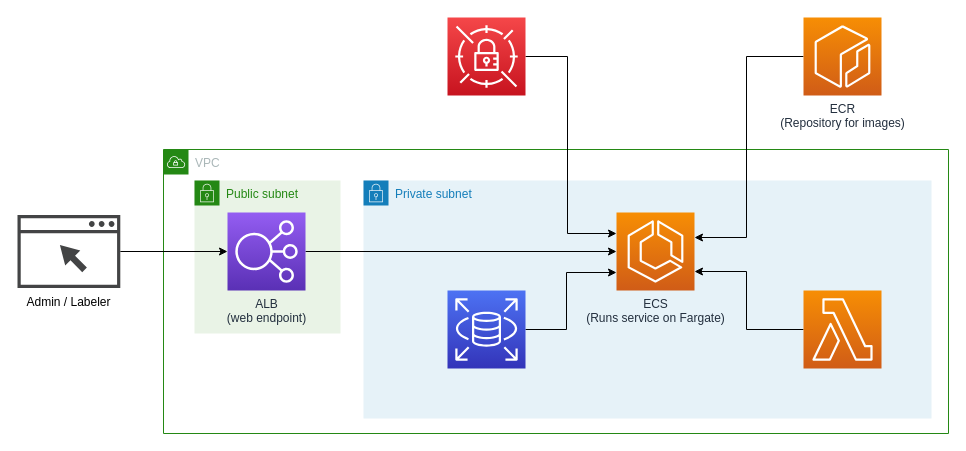
Some shapes in this 966 by 451 pixel diagram are drawn without their labels. Here are the shapes that lost their labels. From the top down, the centre of each, then its label:
the point at 486,56: SecretsManager (Secure DB credentials)
the point at 486,329: RDS (SQL Database for the labeling tool)
the point at 842,329: Lambda (One time DB initialization)
